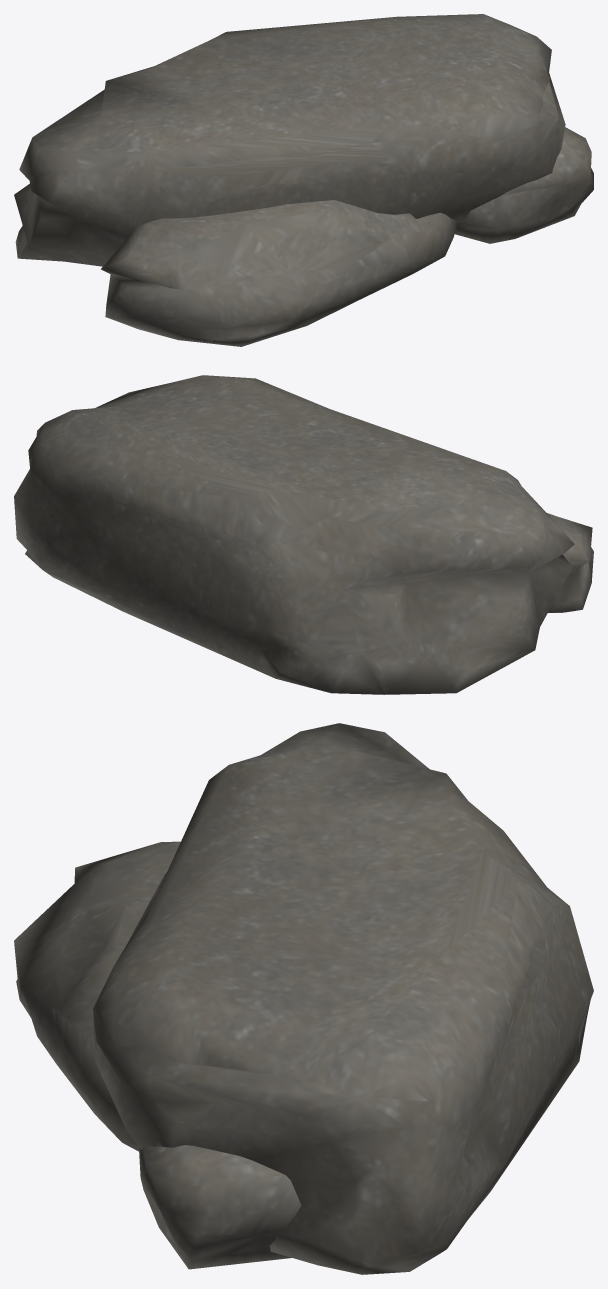
The model's file is river_ledge_LOD2.fbx.
The picture shows the model from 3 angles, top to bottom: view 1: azimuth 30°, elevation 25°; view 2: azimuth 150°, elevation 25°; view 3: azimuth 270°, elevation 25°; orthographic projection. The views are drawn at different scales.
Visible parts, largest first — view 1: river_ledge_LOD2; view 2: river_ledge_LOD2; view 3: river_ledge_LOD2.
Boxes of the visible parts, x1,y1,x2,y2 form: river_ledge_LOD2: (14,14,593,346); river_ledge_LOD2: (14,375,593,694); river_ledge_LOD2: (14,723,593,1274).
Bounding box in the file's own units: 599 × 179 × 396.
